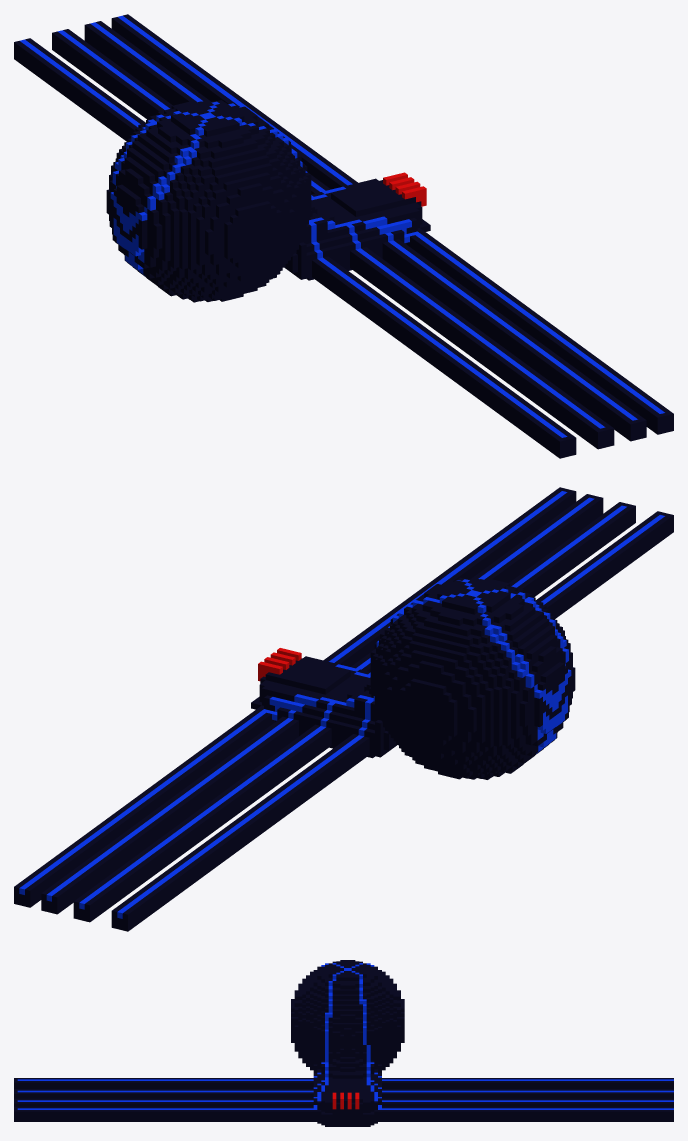
The model's file is aranha.glb.
3 renders of one model, top to bottom at view 1: azimuth 30°, elevation 25°; view 2: azimuth 150°, elevation 25°; view 3: azimuth 270°, elevation 25°, orthographic. The views are drawn at different scales.
Parts seen in each view (by area): view 1: Untitled; view 2: Untitled; view 3: Untitled.
Part boxes in pixels (x1,y1,x2,y2): Untitled: (14,14,673,458); Untitled: (14,487,673,931); Untitled: (14,960,673,1126).
Bounding box in the file's own units: 5.3 × 3 × 17.4.
1 material, 1 textured.
